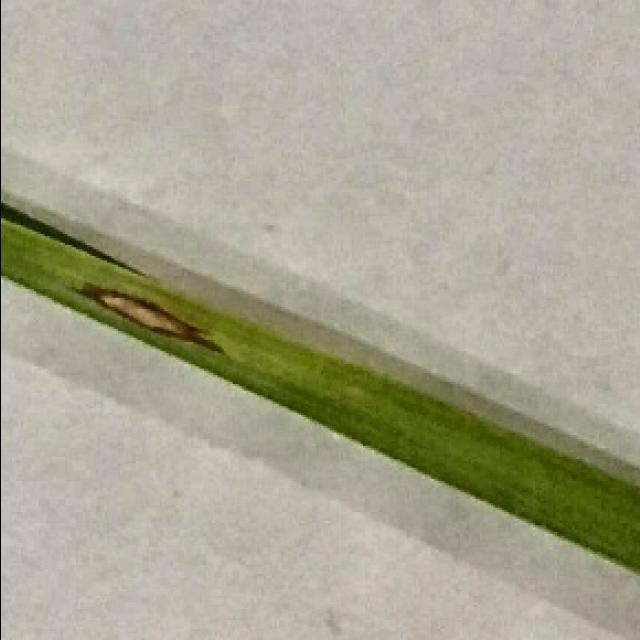Leaf_Blast: (62, 267, 223, 362)
